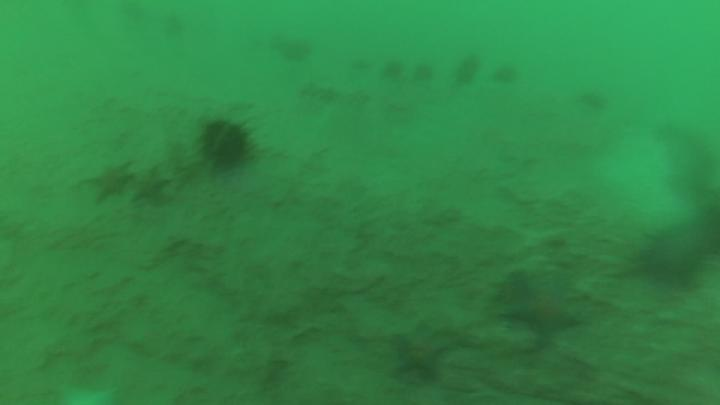echinus: (202, 123, 248, 164), (285, 41, 315, 60), (457, 58, 477, 86), (496, 67, 518, 87), (383, 61, 402, 80), (415, 64, 430, 86)
starfish: (501, 275, 584, 344), (647, 231, 698, 286), (398, 324, 446, 378), (90, 167, 130, 202), (134, 169, 165, 204)
